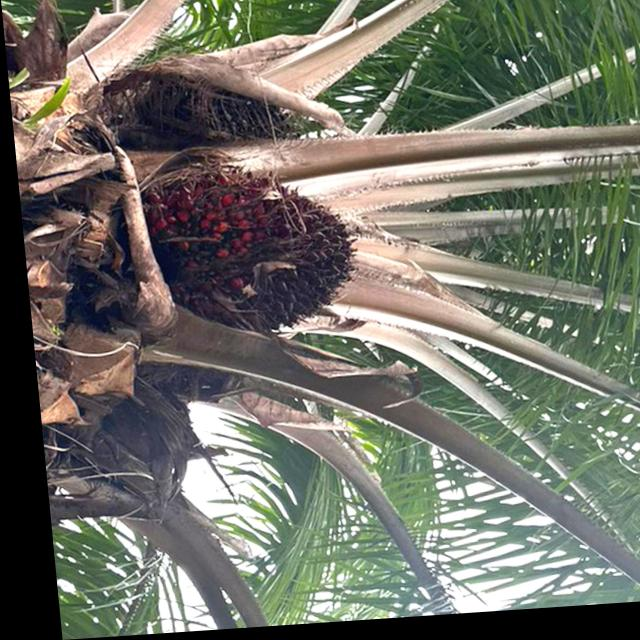ripe: (127, 172, 361, 349)
